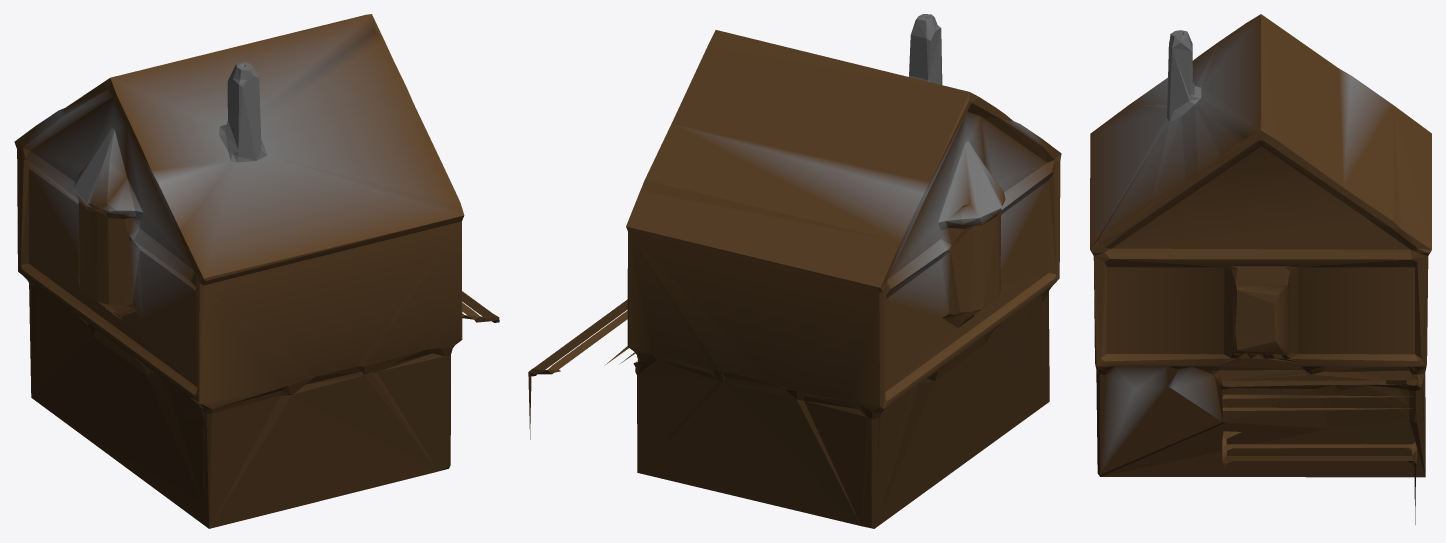
File: Medieval Houses(1).glb
3 views of the same model, side by side, from view 1: azimuth 30°, elevation 25°; view 2: azimuth 150°, elevation 25°; view 3: azimuth 270°, elevation 25° (orthographic). The views are drawn at different scales.
Visible parts, largest first — view 1: Root; view 2: Root; view 3: Root.
Boxes of the visible parts, left/top/right/bottom form: Root: left=14, top=14, right=499, bottom=528; Root: left=528, top=14, right=1061, bottom=528; Root: left=1090, top=14, right=1431, bottom=524.
Bounding box in the file's own units: 10.31 × 10.17 × 8.45.
